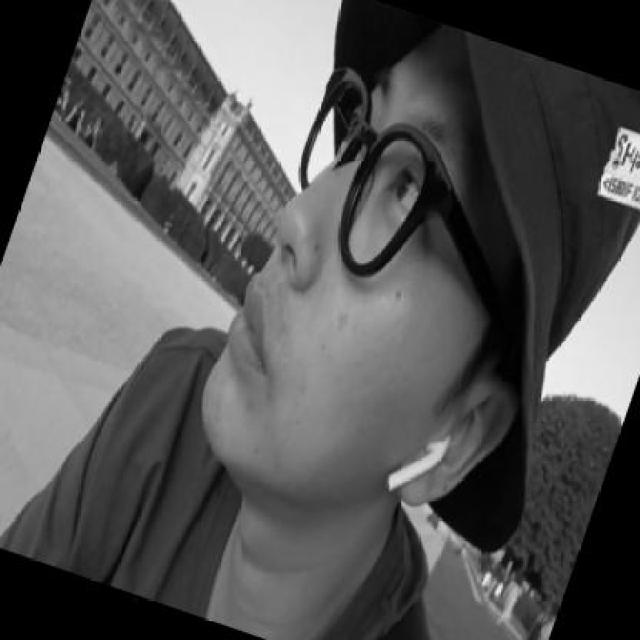earphone: (379, 417, 460, 520)
